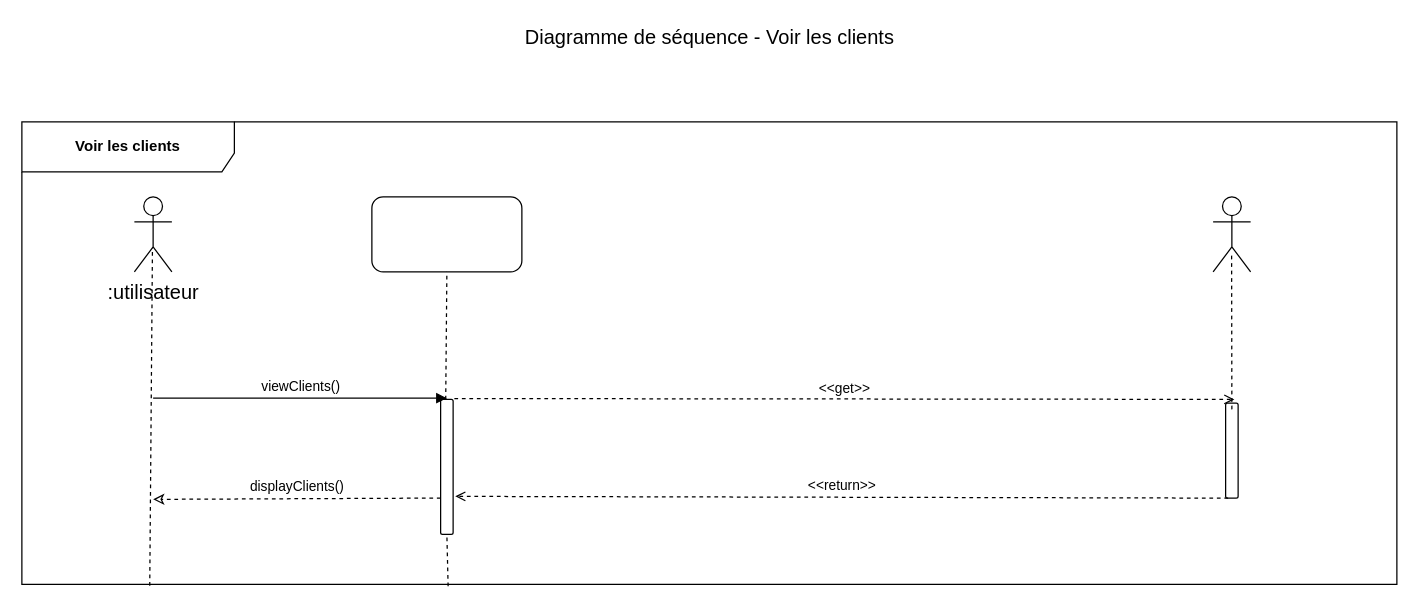
Some shapes in this 1419 by 609 pixel diagram are drawn without their labels. The box of each missing label's shape, as (x1, y1, x2, y2) in pixels:
:bdd: (1212, 196, 1251, 272)
:system: (371, 196, 522, 272)
